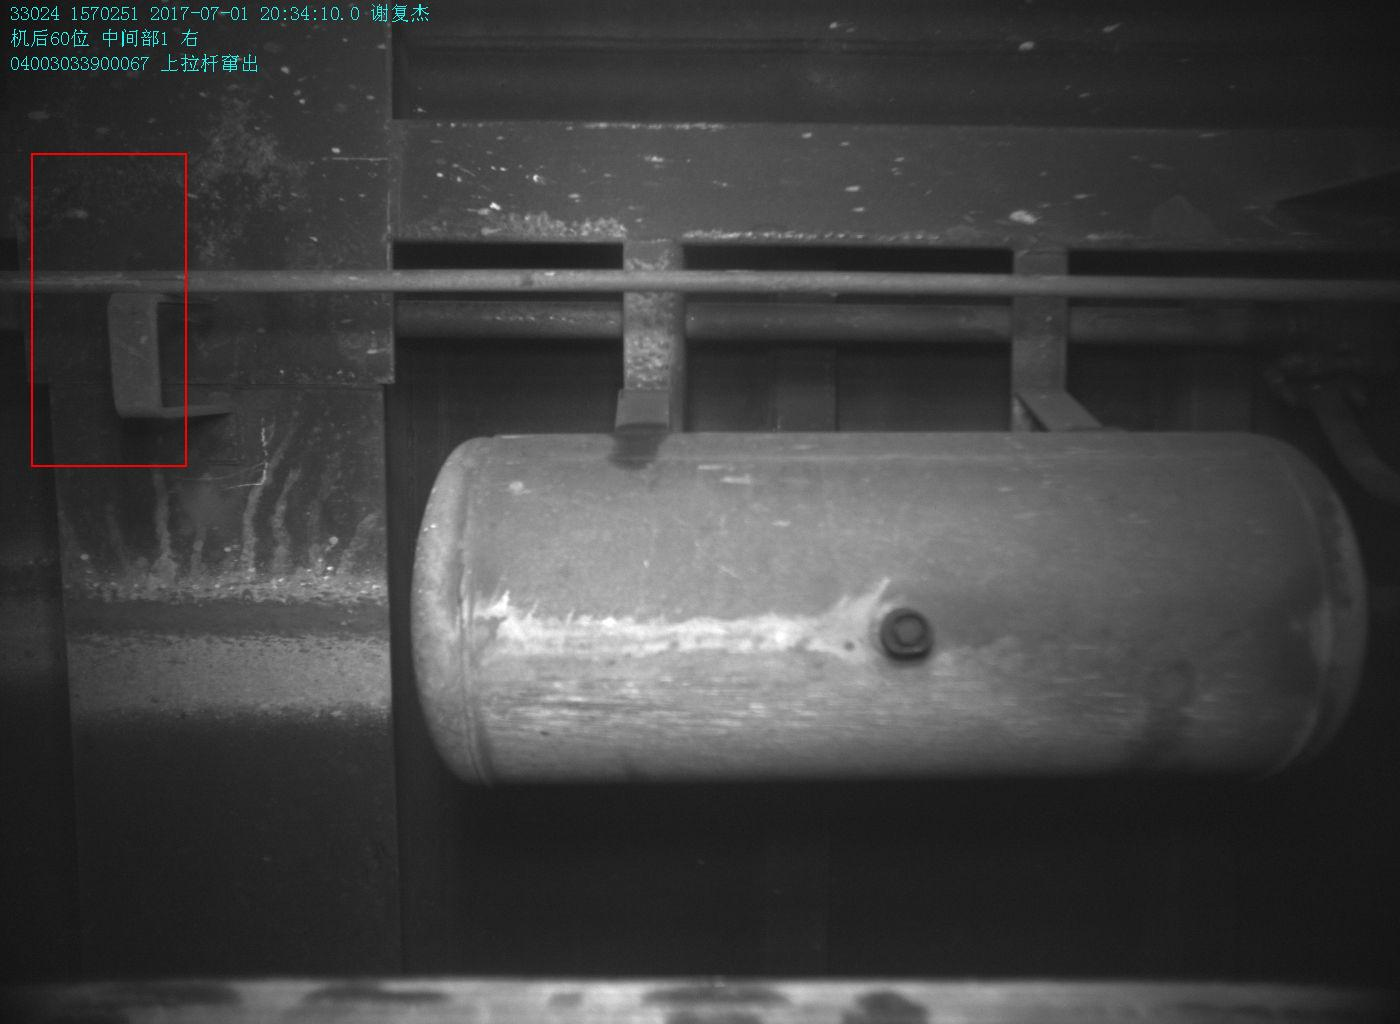upper lever: (108, 267, 234, 421)
